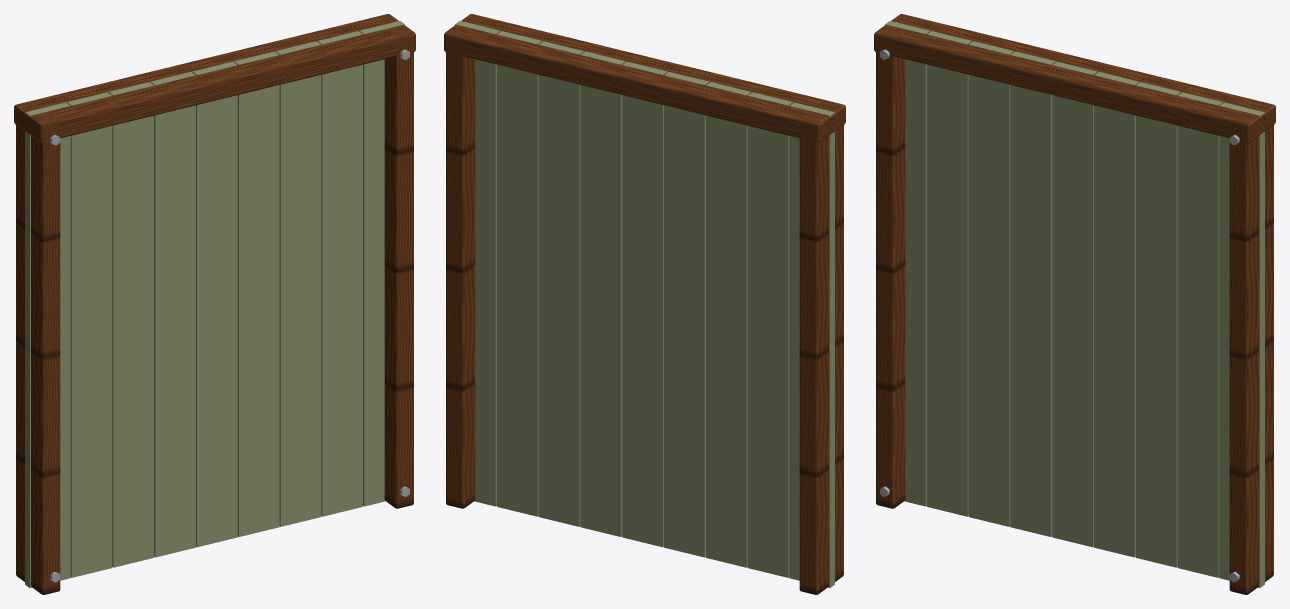
Rendered from prehistoric-survivor-settlement-hide-screen-wall-c9c5aa08__23162.glb.
3 renders of one model, left to right at view 1: azimuth 30°, elevation 25°; view 2: azimuth 150°, elevation 25°; view 3: azimuth 330°, elevation 25°, orthographic.
Parts seen in each view (by area): view 1: hide-screen-wall; view 2: hide-screen-wall; view 3: hide-screen-wall.
Boxes of the visible parts, left/top/right/bottom form: hide-screen-wall: left=14, top=14, right=415, bottom=594; hide-screen-wall: left=444, top=14, right=845, bottom=594; hide-screen-wall: left=874, top=14, right=1275, bottom=594.
Size of the model in its own units: 2 by 2.4 by 0.2774.
Materials: 3 (1 with a texture image).
